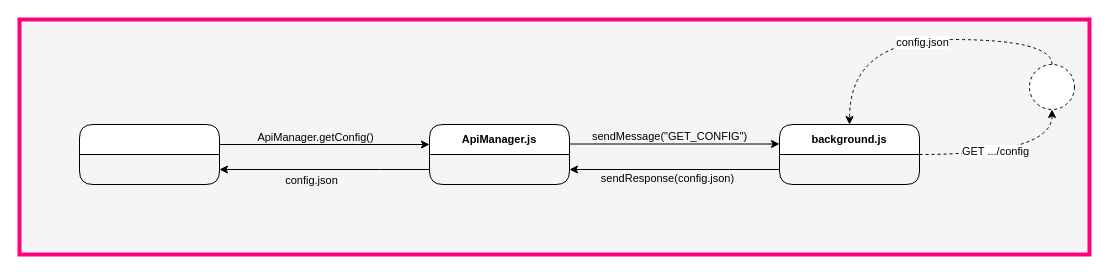
Some shapes in this 1108 by 273 pixel diagram are drawn without their labels. Here are the shapes that lost their labels. From the top down, the centre of each, then its label:
the point at 1051,87: API
the point at 149,154: core_engine.js
